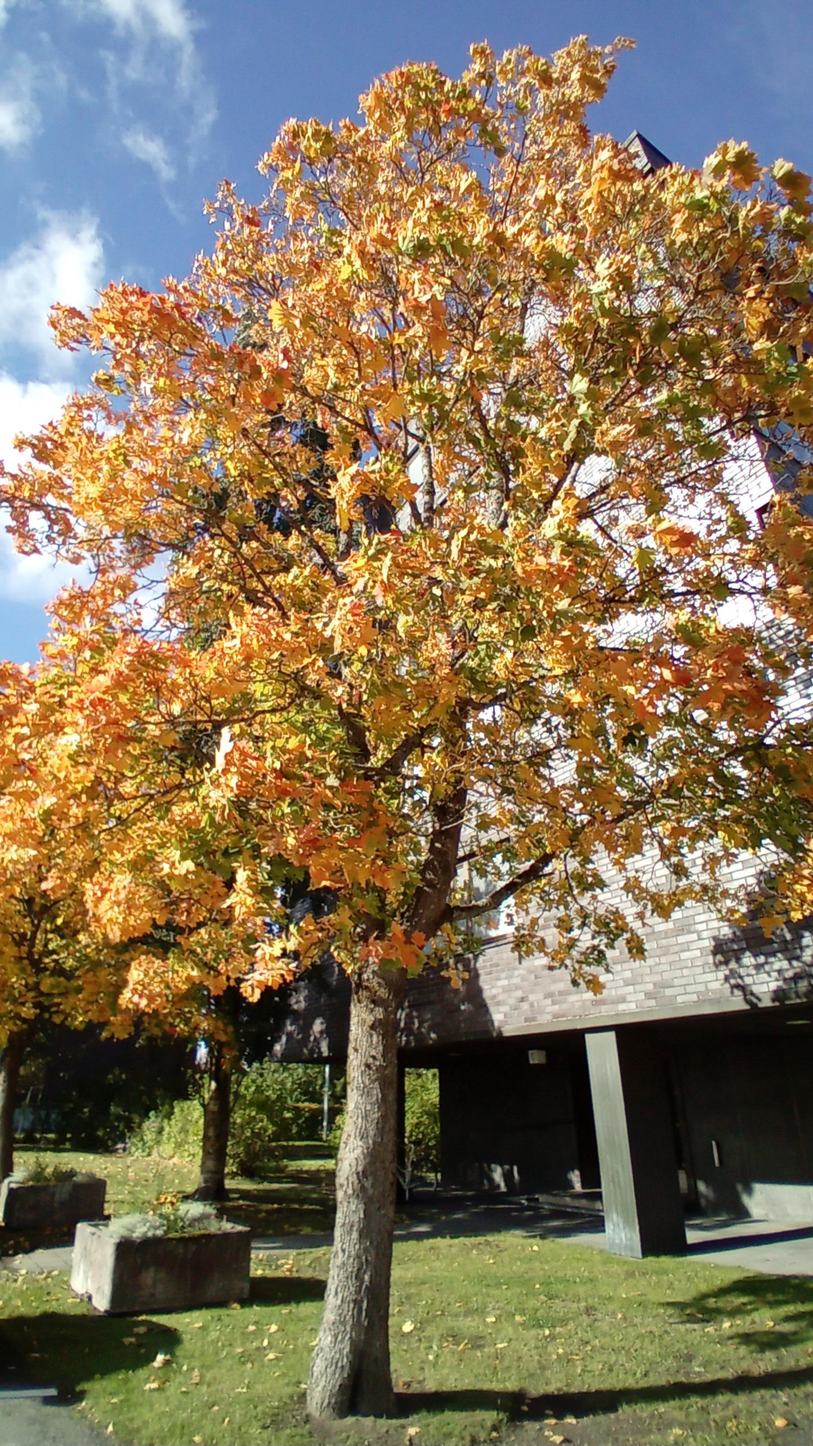Maple: (2, 34, 811, 1422)
